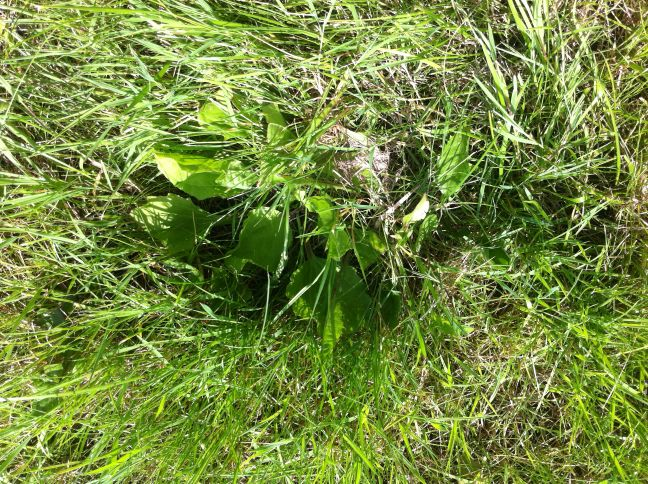weed1: (127, 96, 397, 343)
